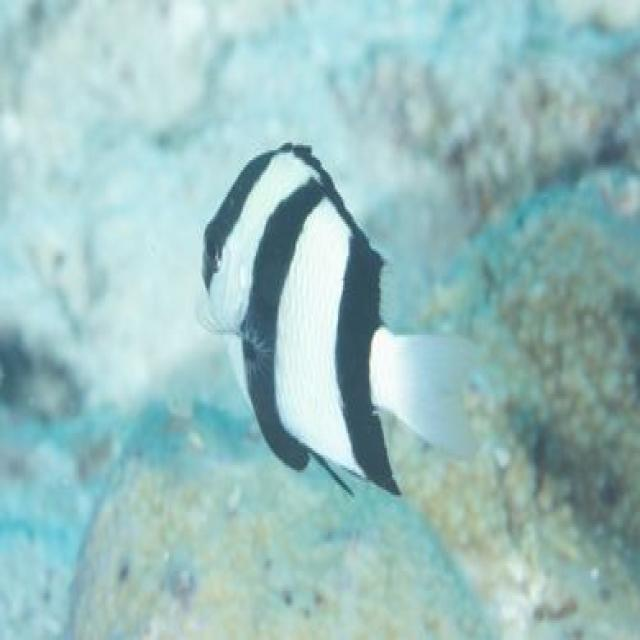ThreeStripedDamselfish: (194, 143, 478, 497)
